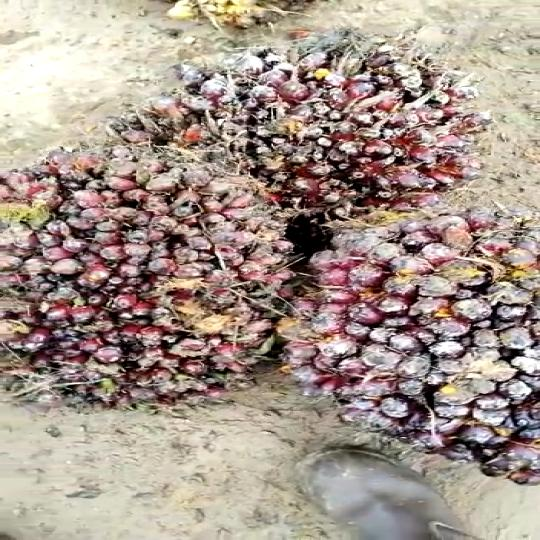kurang masak: (0, 137, 277, 399), (278, 207, 540, 484), (160, 28, 494, 226)
